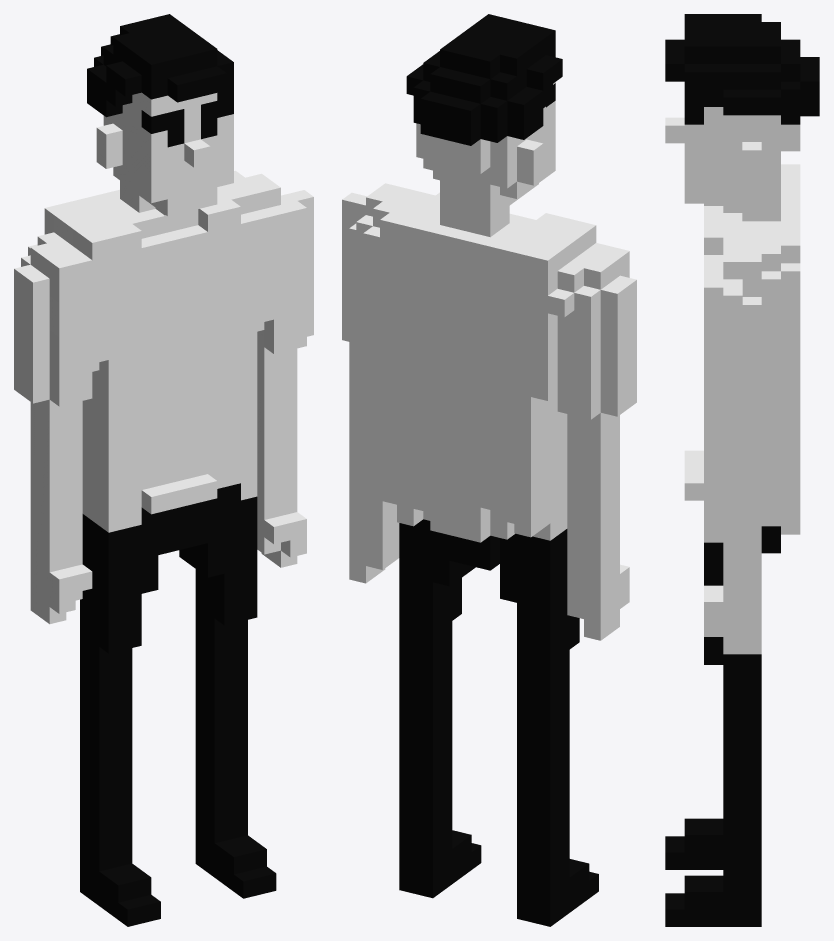
Rendered from Civilian1.obj.
The picture shows the model from 3 angles, left to right: view 1: azimuth 30°, elevation 25°; view 2: azimuth 150°, elevation 25°; view 3: azimuth 270°, elevation 25°; orthographic projection.
Bounding box in the file's own units: 1.7 × 4.9 × 0.8.
